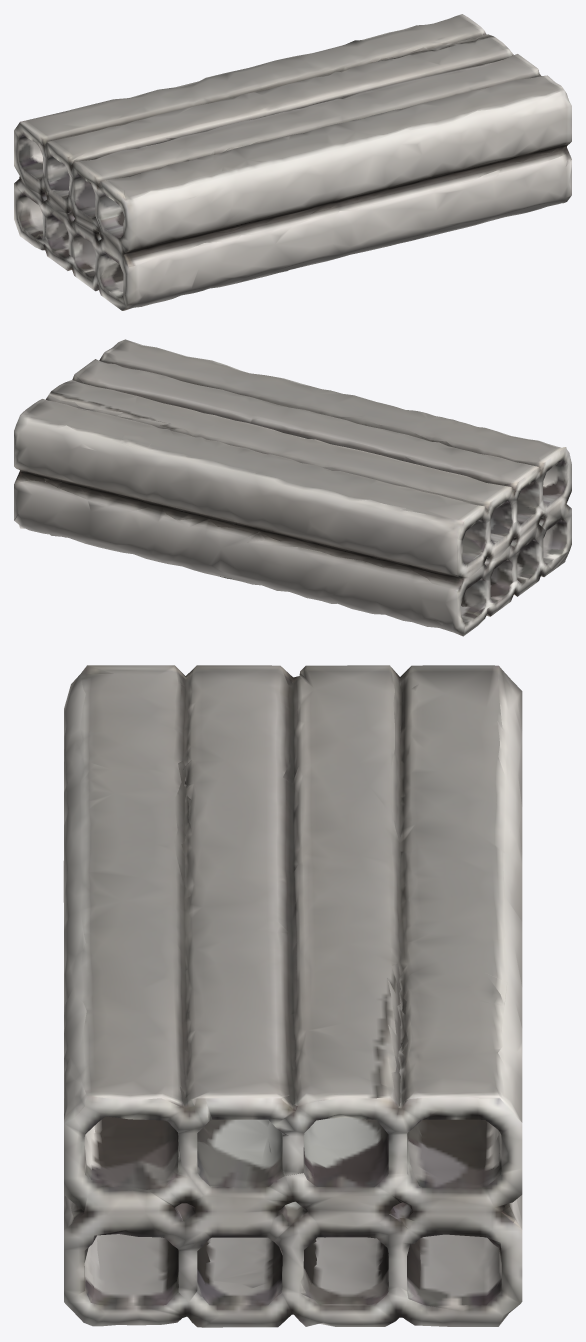
File: base_basic_pbr.glb
3 renders of one model, top to bottom at view 1: azimuth 30°, elevation 25°; view 2: azimuth 150°, elevation 25°; view 3: azimuth 270°, elevation 25°, orthographic. The views are drawn at different scales.
Visible parts, largest first — view 1: model; view 2: model; view 3: model.
Boxes of the visible parts, bbox=[...] form: model: bbox=[14, 14, 571, 310]; model: bbox=[14, 339, 571, 636]; model: bbox=[63, 665, 522, 1327].
Size of the model in its own units: 1.9 by 0.4708 by 0.8512.
Materials: 1 (1 with a texture image).
